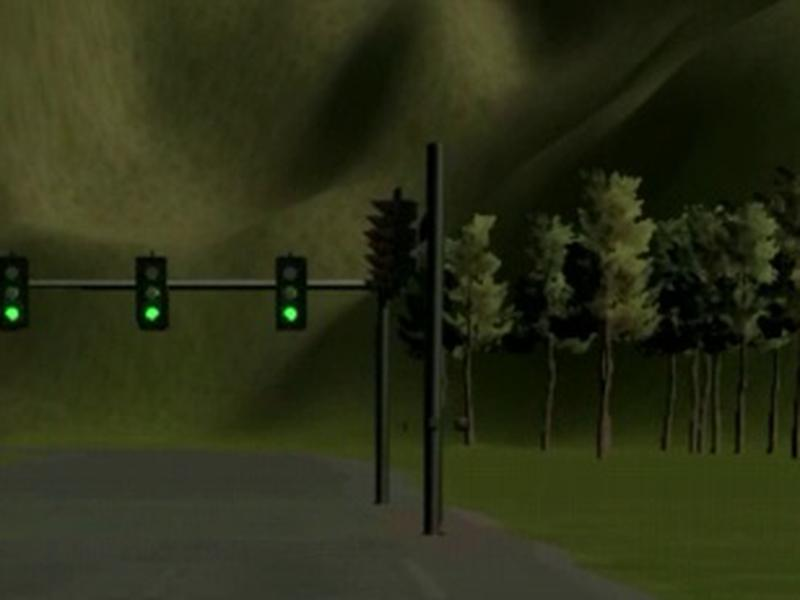Green: (134, 256, 169, 332), (275, 255, 306, 331), (1, 255, 27, 329)
